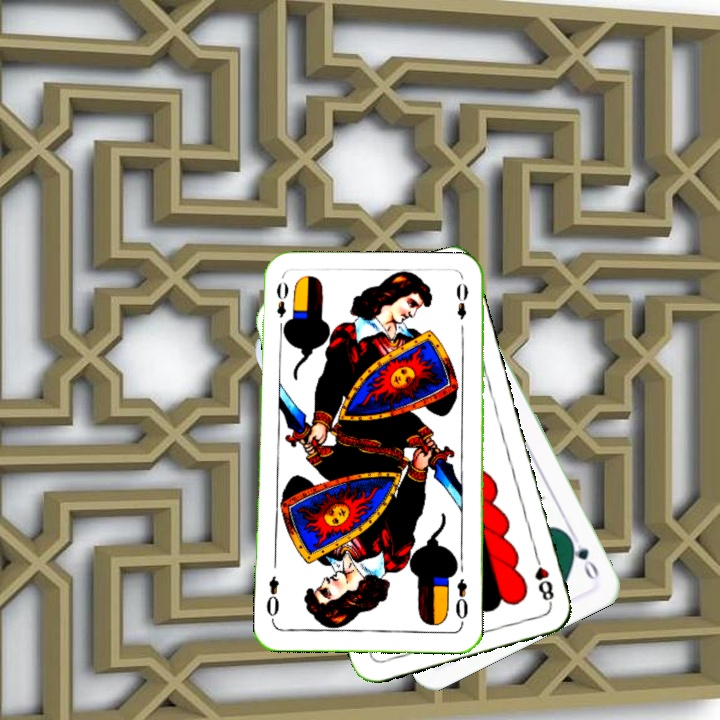EO: (272, 278, 291, 335), (452, 575, 471, 627)
GO: (563, 528, 602, 584)
H8: (530, 549, 557, 607)
